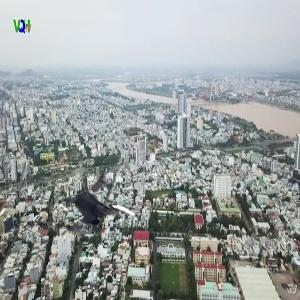drone: (52, 166, 150, 264)
